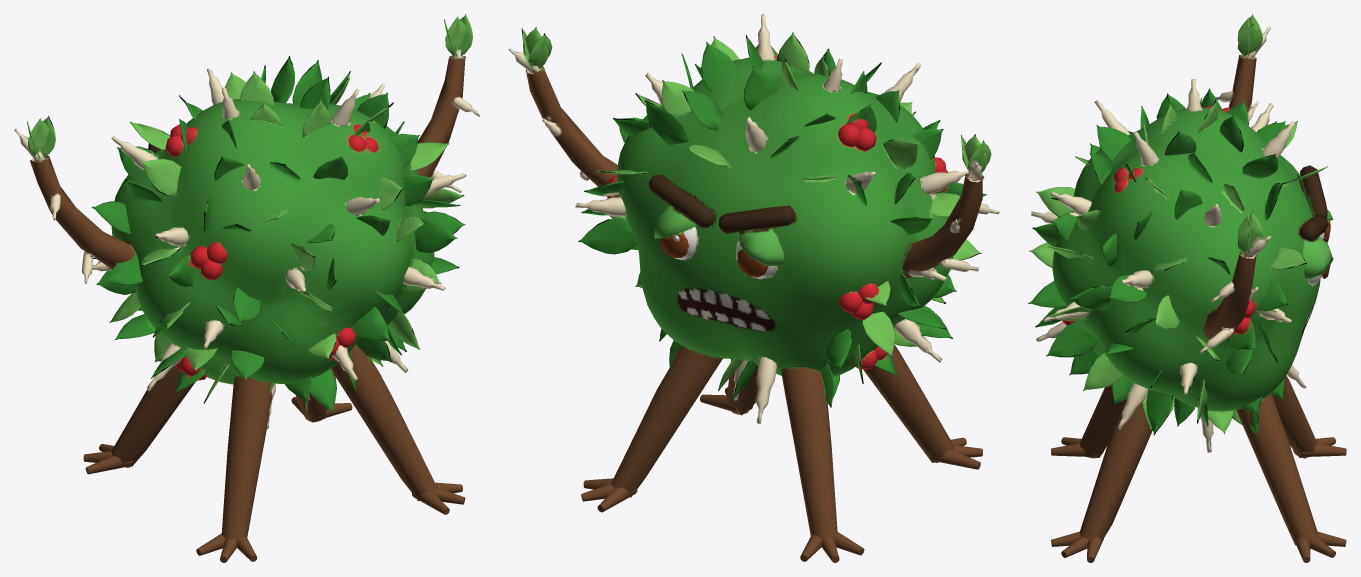
Rendered from ThornBush.fbx.
3 views of the same model, side by side, from view 1: azimuth 30°, elevation 25°; view 2: azimuth 150°, elevation 25°; view 3: azimuth 270°, elevation 25° (orthographic). The views are drawn at different scales.
Visible parts, largest first — view 1: ThornBush; view 2: ThornBush; view 3: ThornBush.
Part boxes in pixels (box(x1,y1,x2,y2)): ThornBush: box(14, 14, 479, 562); ThornBush: box(508, 14, 999, 562); ThornBush: box(1028, 14, 1346, 562).
Size of the model in its own units: 4.07 by 3.57 by 2.59.
Materials: 1 (1 with a texture image).
